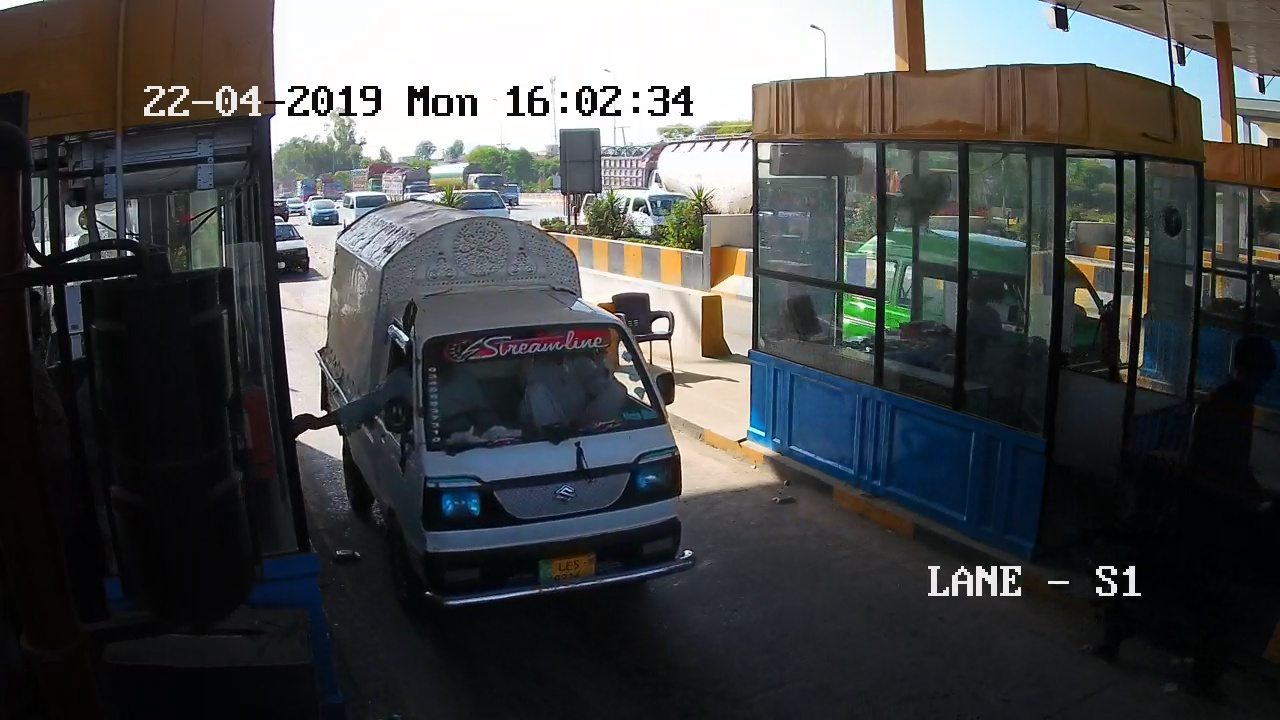Number Plate (Car): (535, 555, 597, 583)
